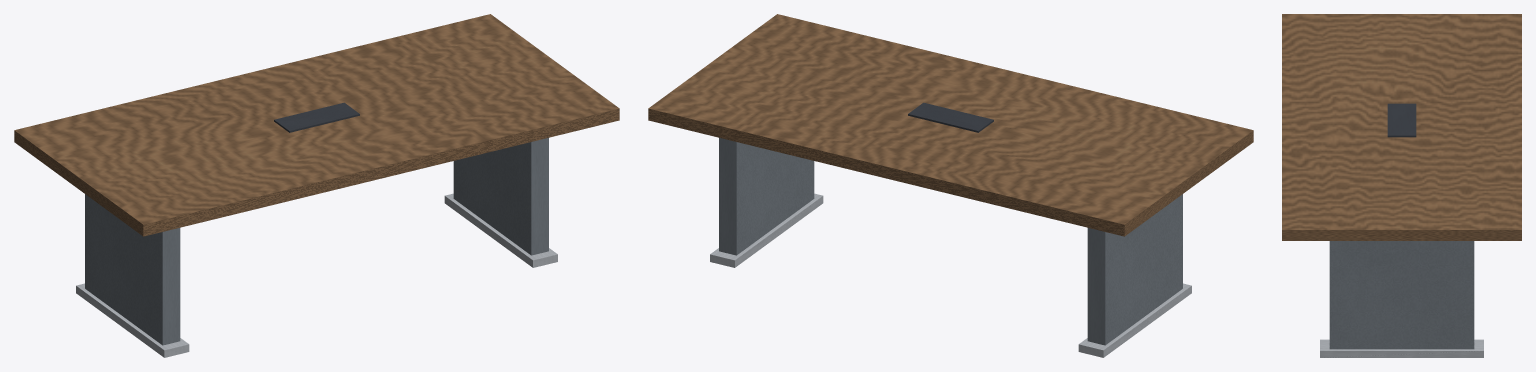
File: meeting_table01.glb
The picture shows the model from 3 angles, left to right: view 1: azimuth 30°, elevation 25°; view 2: azimuth 150°, elevation 25°; view 3: azimuth 270°, elevation 25°; orthographic projection. The views are drawn at different scales.
Parts seen in each view (by area): view 1: top, frame, feet, cable_hatch; view 2: top, frame, feet, cable_hatch; view 3: top, frame, feet, cable_hatch.
Part boxes in pixels (box(x1,y1,x2,y2)): top: box(14, 14, 619, 236); frame: box(85, 138, 548, 345); feet: box(76, 193, 557, 357); cable_hatch: box(274, 102, 359, 132); top: box(648, 14, 1253, 236); frame: box(719, 138, 1182, 345); feet: box(710, 193, 1191, 357); cable_hatch: box(908, 102, 993, 132); top: box(1282, 14, 1521, 240); frame: box(1329, 241, 1474, 349); feet: box(1320, 339, 1483, 357); cable_hatch: box(1387, 103, 1416, 137).
Bounding box in the file's own units: 2.3 × 0.744 × 1.08.
Materials: 4 (4 with a texture image).
